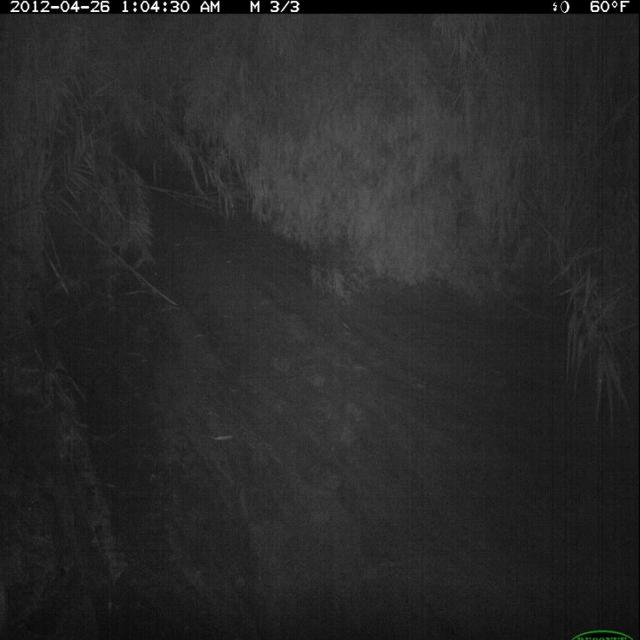opossum: (4, 10, 633, 640)
